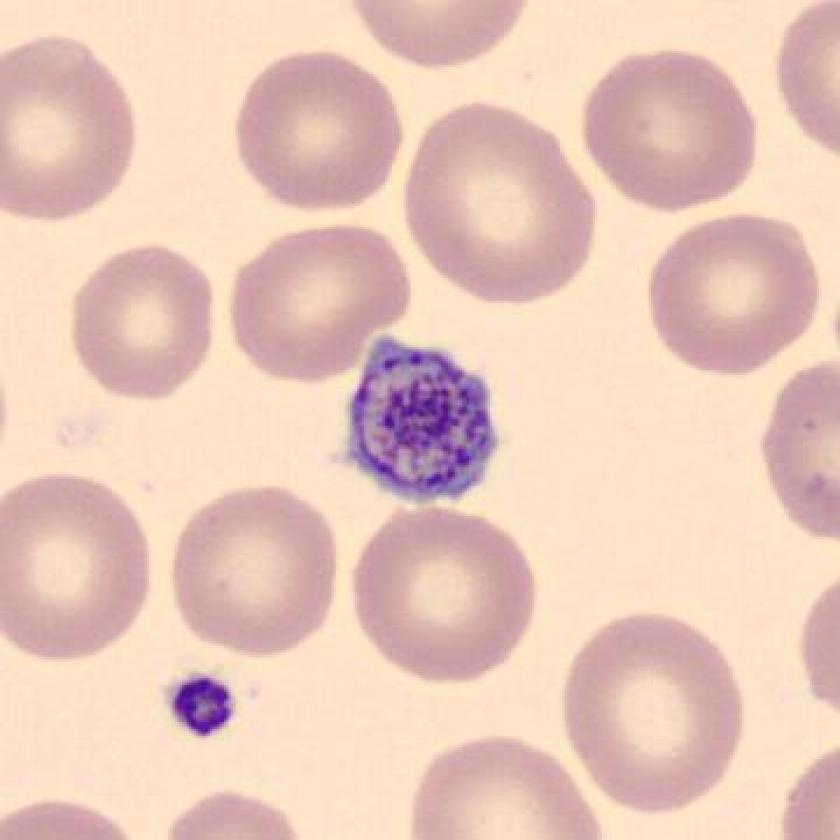platelets: (335, 328, 510, 513)
